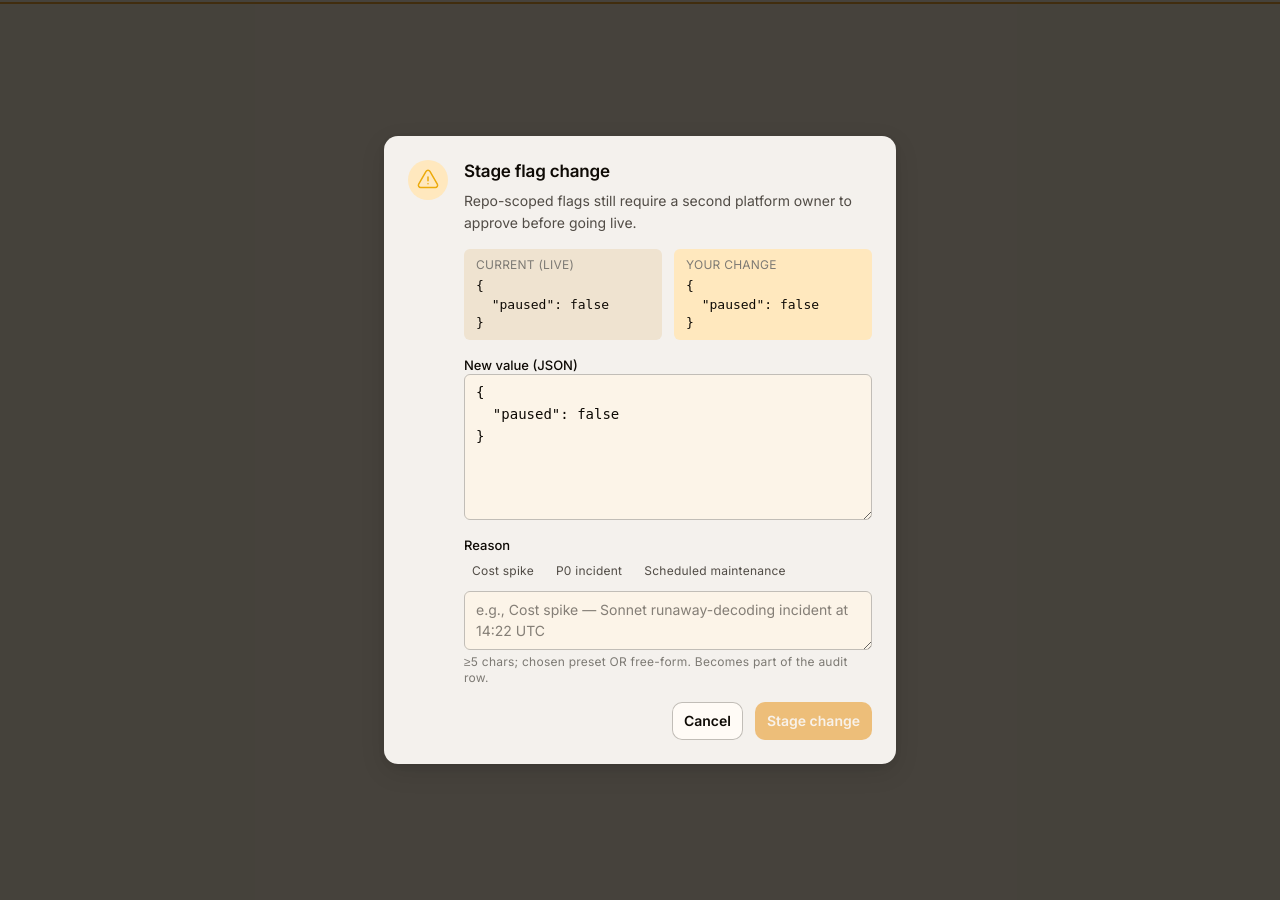
FlagEditModal › preset reason chips set the reason field
Click the button "Cost spike" at (503, 571), box [464,558,542,583]
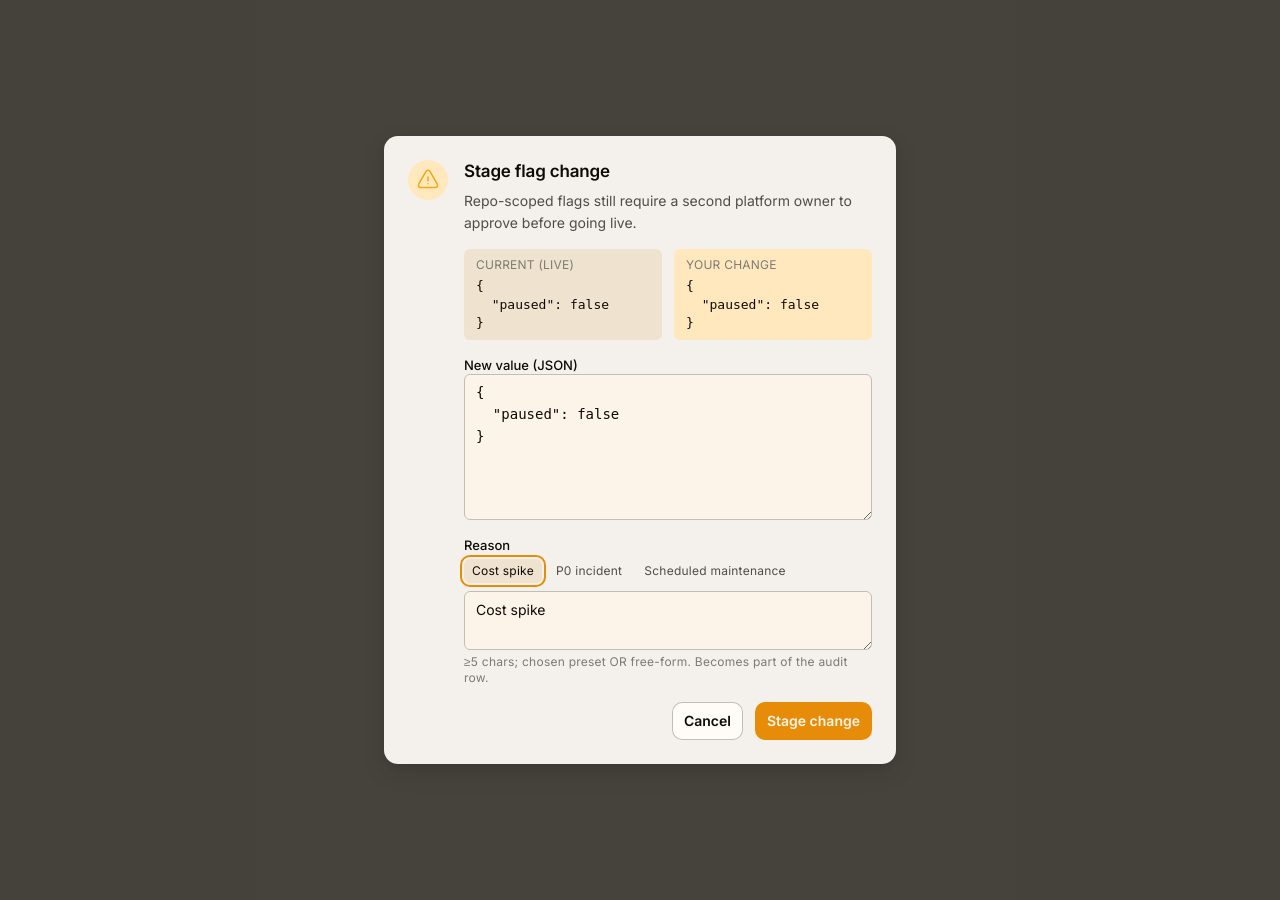
Result: the text box labelled "Reason" holds "Cost spike" at [464,591,872,650]
